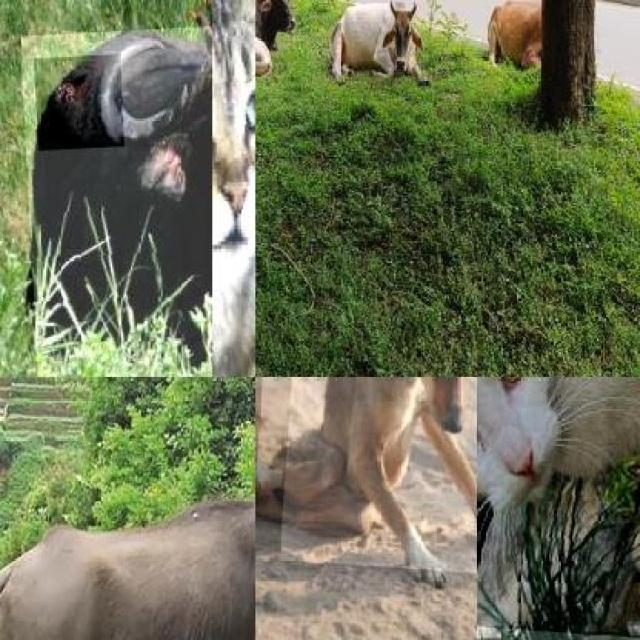buffalo: (19, 14, 212, 377), (0, 492, 255, 639)
cat: (477, 377, 640, 640), (212, 0, 255, 377)
cow: (322, 0, 428, 86), (256, 6, 278, 79)
dog: (278, 377, 477, 574)
injured: (255, 442, 357, 566), (33, 53, 124, 150)
